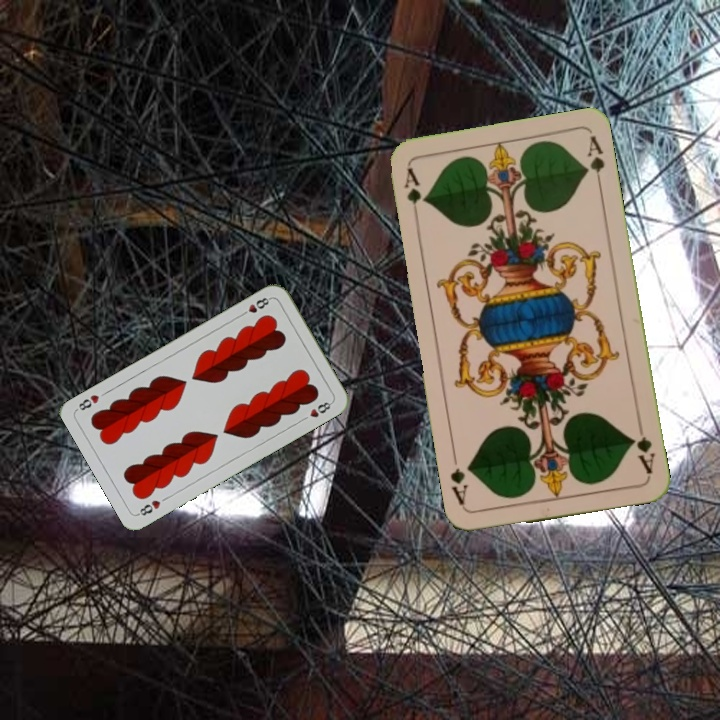GA: (627, 418, 657, 477), (400, 164, 426, 222)
H8: (237, 293, 274, 319), (134, 496, 163, 518)
